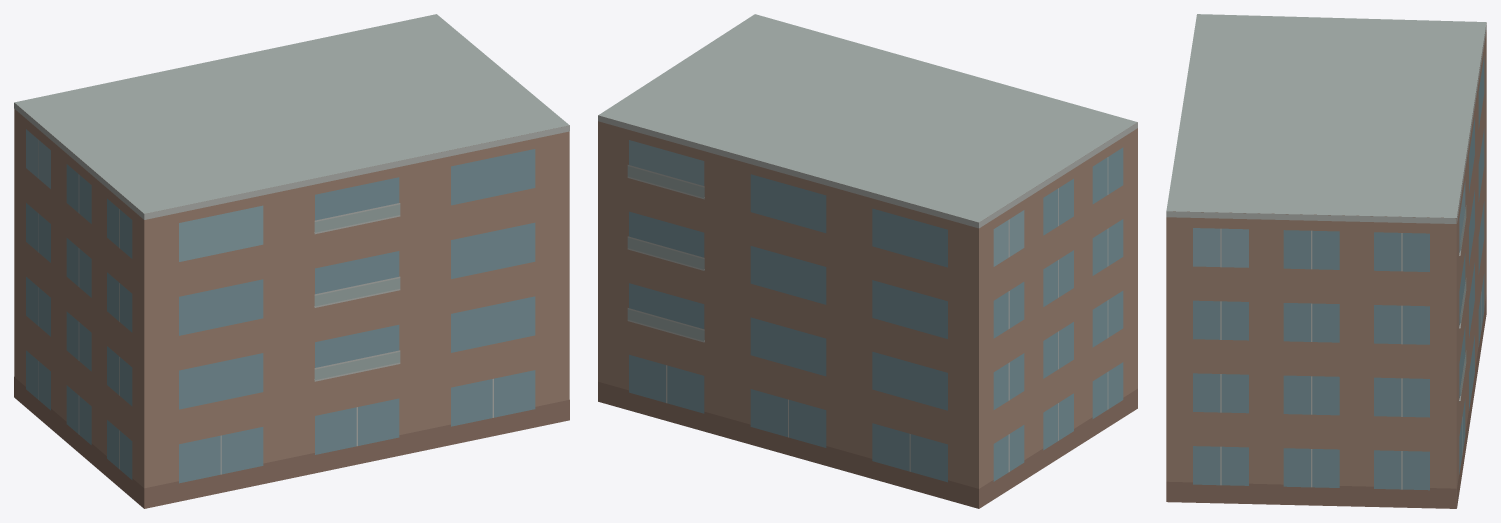
The model's file is survey-upis-32667087.glb.
3 renders of one model, left to right at view 1: azimuth 30°, elevation 25°; view 2: azimuth 150°, elevation 25°; view 3: azimuth 270°, elevation 25°, orthographic. The views are drawn at different scales.
Parts seen in each view (by area): view 1: survey-upis-32667087.tmp; view 2: survey-upis-32667087.tmp; view 3: survey-upis-32667087.tmp.
Part boxes in pixels (bbox=[...]): survey-upis-32667087.tmp: bbox=[14, 14, 569, 508]; survey-upis-32667087.tmp: bbox=[598, 14, 1137, 508]; survey-upis-32667087.tmp: bbox=[1166, 14, 1486, 508].
Bounding box in the file's own units: 17.77 × 11.8 × 11.79.
